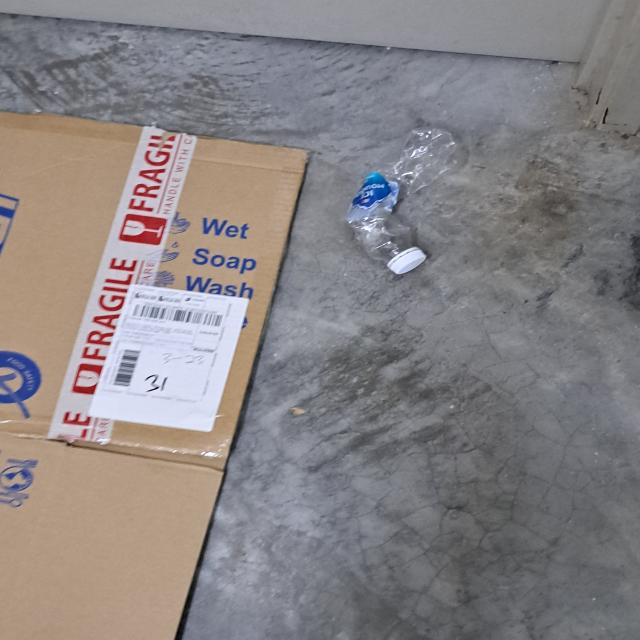cardboard: (0, 111, 307, 640)
plastic bottle: (348, 125, 464, 275)
plastic bottle cap: (386, 245, 431, 276)
